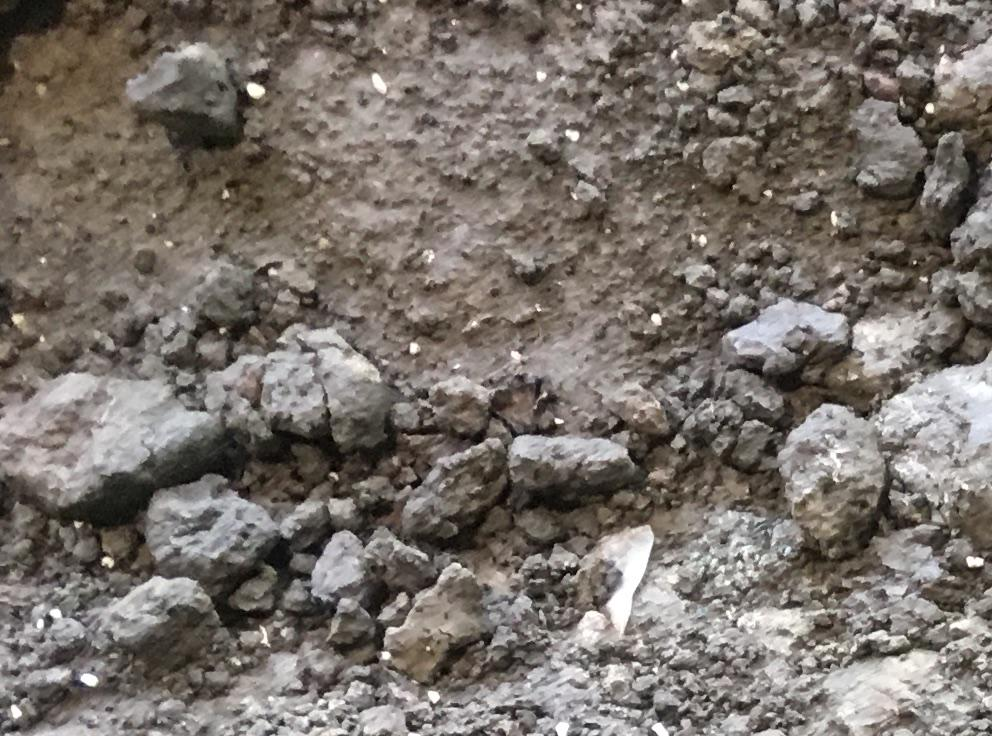block: (1, 368, 234, 522), (877, 360, 992, 539), (777, 400, 880, 559), (143, 484, 278, 593), (257, 339, 397, 443), (122, 43, 248, 145), (511, 423, 647, 509), (723, 297, 852, 384), (407, 437, 509, 540)
